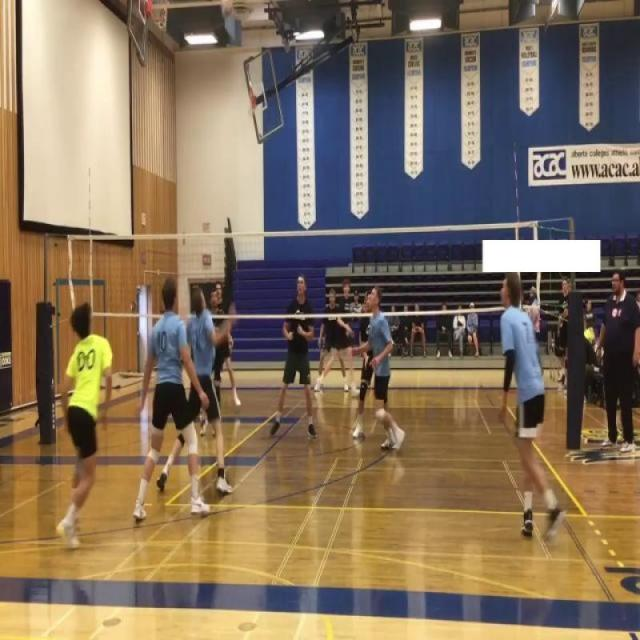volleyball: (220, 0, 233, 19)
